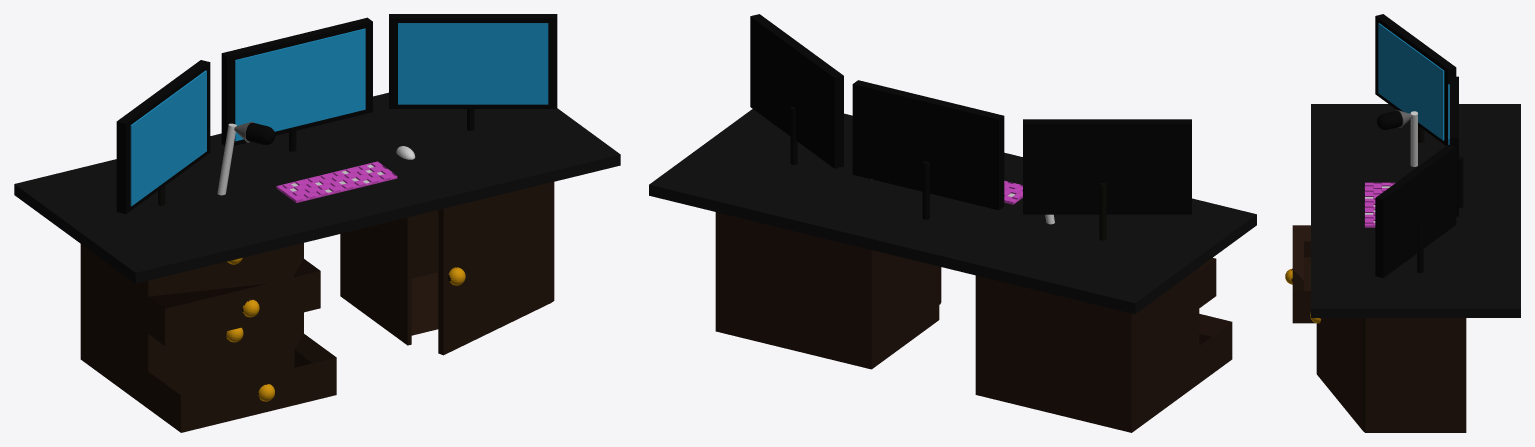
The model's file is desk.obj.
The picture shows the model from 3 angles, left to right: view 1: azimuth 30°, elevation 25°; view 2: azimuth 150°, elevation 25°; view 3: azimuth 270°, elevation 25°; orthographic projection. The views are drawn at different scales.
Parts seen in each view (by area): view 1: Cube, Cube.001, Cube.007, Cube.005, Cube.003, Cube.006, Cube.004, Cube.002, Cube.008, Cylinder.003; view 2: Cube, Cube.001, Cube.002, Cube.004, Cube.006; view 3: Cube.001, Cube, Cube.006, Cube.003, Cube.002, Cube.004, Cube.008, Cylinder.003, Mball, Cylinder.001, Cylinder.
Boxes of the visible parts, <box> form: Cube: <box>80,182,554,432</box>; Cube.001: <box>14,92,620,283</box>; Cube.007: <box>398,23,548,104</box>; Cube.005: <box>235,28,365,141</box>; Cube.003: <box>130,70,206,206</box>; Cube.006: <box>389,14,557,108</box>; Cube.004: <box>221,17,372,145</box>; Cube.002: <box>116,60,210,214</box>; Cube.008: <box>276,161,397,202</box>; Cylinder.003: <box>217,123,236,195</box>; Cube: <box>715,212,1232,432</box>; Cube.001: <box>649,109,1256,314</box>; Cube.002: <box>1023,119,1191,214</box>; Cube.004: <box>852,80,1004,210</box>; Cube.006: <box>750,14,843,168</box>; Cube.001: <box>1311,104,1520,317</box>; Cube: <box>1285,225,1466,432</box>; Cube.006: <box>1375,144,1456,277</box>; Cube.003: <box>1378,23,1444,140</box>; Cube.002: <box>1375,14,1456,145</box>; Cube.004: <box>1449,76,1458,216</box>; Cube.008: <box>1364,182,1395,227</box>; Cylinder.003: <box>1410,111,1417,166</box>; Mball: <box>1377,111,1402,129</box>; Cylinder.001: <box>1417,222,1423,273</box>; Cylinder: <box>1459,157,1463,207</box>.
Size of the model in its own units: 9.59 by 5.21 by 4.67.
